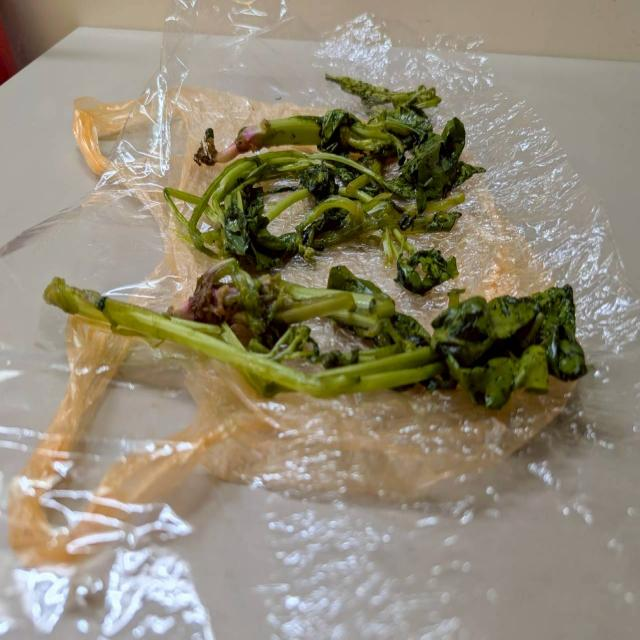rotten spinach: (75, 62, 609, 428), (70, 264, 572, 416), (158, 133, 462, 278), (214, 84, 464, 178)
